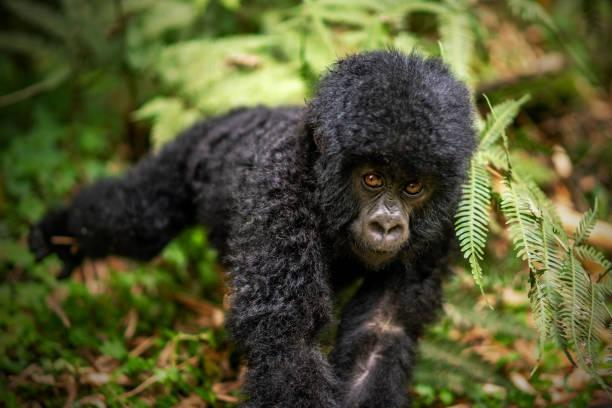goriile_montagne: (83, 8, 522, 398)
